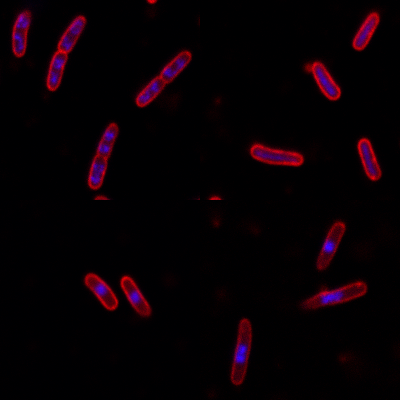CAM: (120, 274, 153, 316), (83, 272, 118, 311)
Control: (44, 13, 87, 92), (134, 49, 191, 108), (86, 121, 119, 189)
Nalidixate: (227, 314, 254, 386), (314, 220, 347, 270)
Oblique: (294, 279, 368, 313), (10, 9, 32, 57)
Rifampicin: (247, 142, 305, 166), (308, 60, 341, 102), (350, 12, 381, 53), (355, 138, 382, 181)
